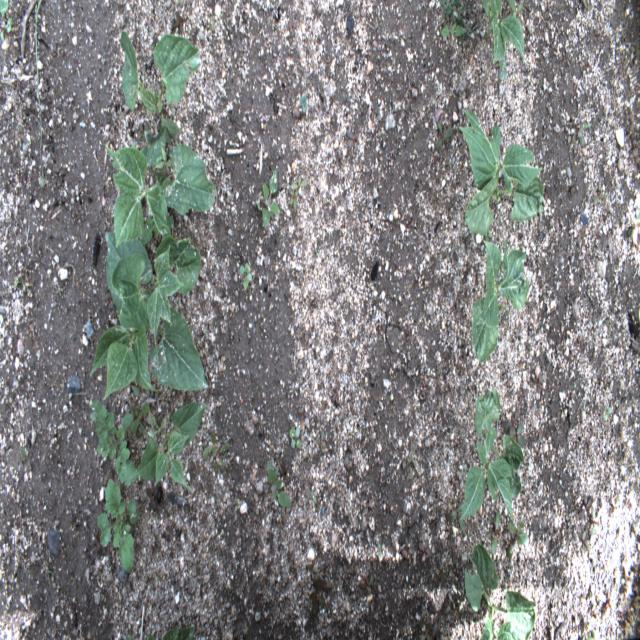crop: (90, 232, 208, 401), (458, 106, 544, 245), (449, 386, 525, 530), (120, 29, 200, 145), (470, 236, 531, 365), (463, 542, 536, 640), (130, 405, 208, 493), (479, 0, 525, 66), (123, 627, 196, 639)
weed: (104, 135, 217, 245), (96, 476, 140, 573), (90, 401, 136, 487), (34, 0, 45, 190), (267, 460, 292, 511), (262, 168, 281, 229), (439, 0, 468, 31), (508, 520, 528, 549), (131, 402, 148, 436), (0, 0, 13, 41), (436, 122, 454, 151), (7, 276, 30, 295), (288, 422, 302, 452), (202, 432, 216, 462), (287, 174, 307, 194), (240, 260, 252, 292), (442, 21, 464, 38), (491, 508, 499, 553), (594, 178, 606, 204), (136, 124, 150, 144), (578, 531, 589, 556), (211, 457, 226, 475), (578, 120, 587, 148), (498, 61, 508, 83), (590, 506, 596, 538), (298, 94, 308, 112), (290, 190, 298, 212), (603, 406, 612, 422), (582, 629, 596, 639)
